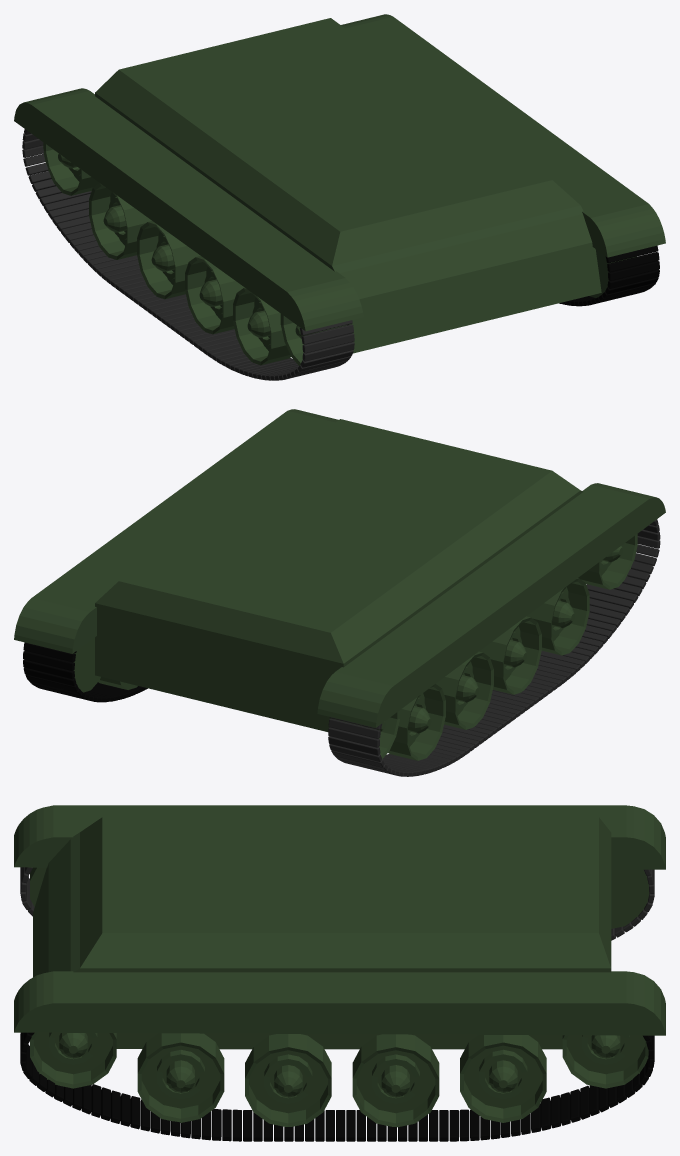
Rendered from GREEN FINISHED TANK BODY 2.fbx.
The picture shows the model from 3 angles, top to bottom: view 1: azimuth 30°, elevation 25°; view 2: azimuth 150°, elevation 25°; view 3: azimuth 270°, elevation 25°; orthographic projection. The views are drawn at different scales.
Parts seen in each view (by area): view 1: Cube, Plane, Cube R, Cylinder.005, Cylinder.006, Cylinder.007, Cylinder.004, Cube L, Cylinder.003, Cylinder.008; view 2: Cube, Plane, Cube R, Cylinder.004, Cylinder.006, Cylinder.005, Cube L, Cylinder.007, Cylinder.003, Cylinder.008; view 3: Cube, Plane, Cube L, Cylinder.005, Cylinder.006, Cylinder.007, Cylinder.004, Cylinder.003, Cylinder.008, Cube R.
Boxes of the visible parts, x1,y1,x2,y2 form: Cube: (95, 18, 601, 353); Plane: (14, 14, 665, 331); Cube R: (22, 129, 354, 380); Cylinder.005: (137, 221, 200, 299); Cylinder.006: (185, 256, 244, 334); Cylinder.007: (233, 288, 291, 365); Cylinder.004: (89, 183, 151, 259); Cube L: (559, 245, 659, 306); Cylinder.003: (43, 142, 99, 195); Cylinder.008: (280, 249, 636, 365); Cube: (95, 419, 583, 731); Plane: (14, 409, 665, 727); Cube R: (328, 519, 660, 776); Cylinder.004: (98, 677, 445, 760); Cylinder.006: (479, 616, 541, 694); Cylinder.005: (436, 651, 493, 729); Cube L: (23, 642, 147, 702); Cylinder.007: (527, 578, 589, 655); Cylinder.003: (73, 637, 400, 759); Cylinder.008: (578, 534, 637, 589); Cube: (33, 817, 611, 1049); Plane: (14, 805, 665, 1035); Cube L: (20, 1032, 654, 1141); Cylinder.005: (352, 1034, 439, 1127); Cylinder.006: (245, 1034, 331, 1126); Cylinder.007: (137, 1033, 224, 1122); Cylinder.004: (460, 1035, 546, 1122); Cylinder.003: (562, 869, 649, 1088); Cylinder.008: (30, 867, 116, 1088); Cube R: (20, 867, 654, 940).
Size of the model in its own units: 436 by 174 by 607.
